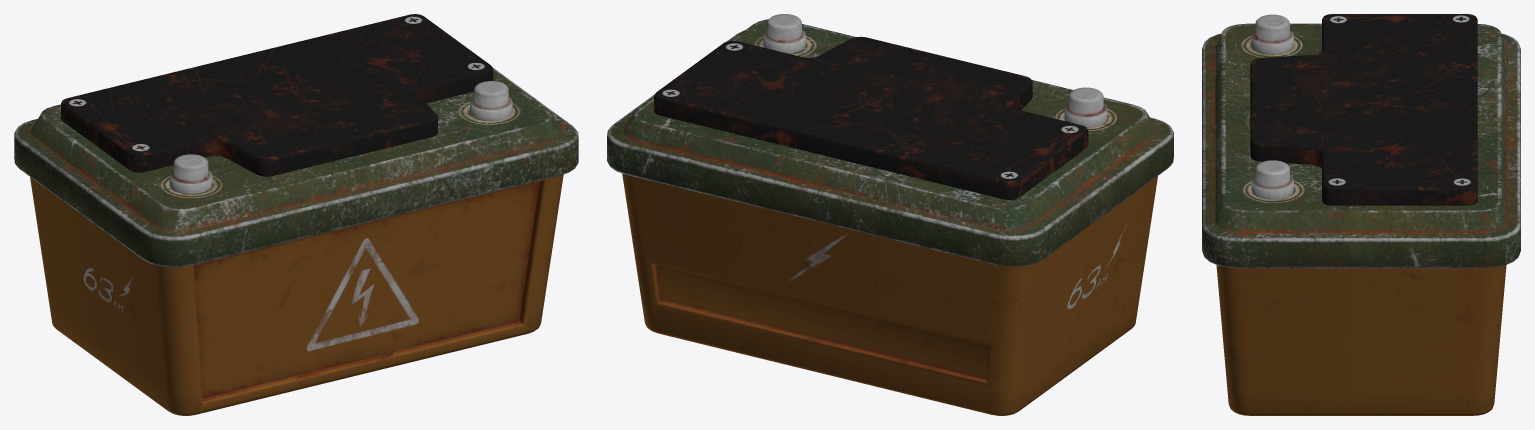
File: battery.glb
3 renders of one model, left to right at view 1: azimuth 30°, elevation 25°; view 2: azimuth 150°, elevation 25°; view 3: azimuth 270°, elevation 25°, orthographic.
Visible parts, largest first — view 1: Battery_0; view 2: Battery_0; view 3: Battery_0.
Part boxes in pixels (bbox=[...]): Battery_0: bbox=[14, 14, 578, 415]; Battery_0: bbox=[607, 14, 1173, 415]; Battery_0: bbox=[1202, 14, 1520, 415].
Size of the model in its own units: 2.79 by 1.45 by 1.8.
Materials: 1 (1 with a texture image).
